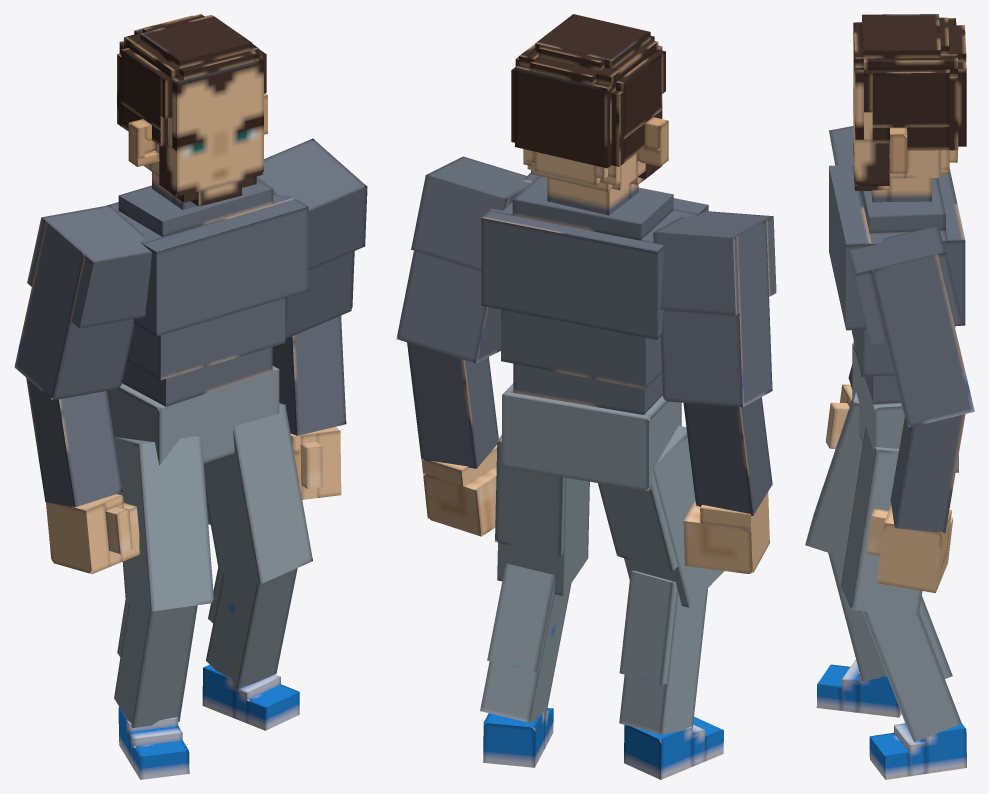
The model's file is Voxel Man.obj.
The picture shows the model from 3 angles, left to right: view 1: azimuth 30°, elevation 25°; view 2: azimuth 150°, elevation 25°; view 3: azimuth 270°, elevation 25°; orthographic projection. The views are drawn at different scales.
Parts seen in each view (by area): view 1: Model; view 2: Model; view 3: Model.
Boxes of the visible parts, left/top/right/bottom form: Model: left=14, top=14, right=367, bottom=779; Model: left=396, top=14, right=776, bottom=779; Model: left=805, top=14, right=974, bottom=779.
Bounding box in the file's own units: 43.96 × 90.36 × 19.84.
Materials: 1 (1 with a texture image).
